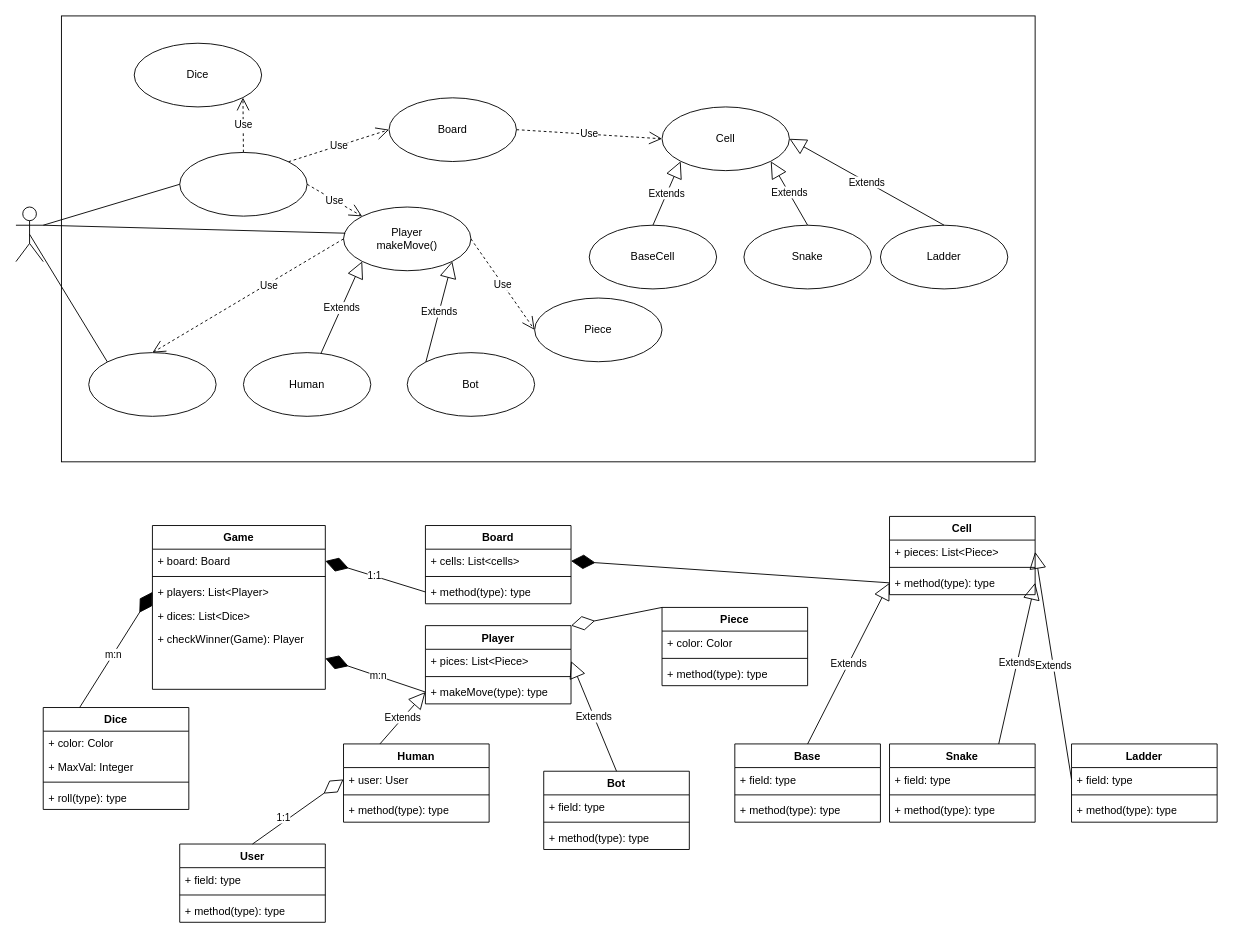
The diagram is 1233 pixels wide and 941 high, and some of its shapes have lost their labels. The shapes that lost their labels are listed below. From the top down, each one's centre as x and y in pixels, then its label:
At point (243, 184): "Game CreateGame()".
At point (29, 234): "Actor".
At point (152, 384): "User CreateUser()".
